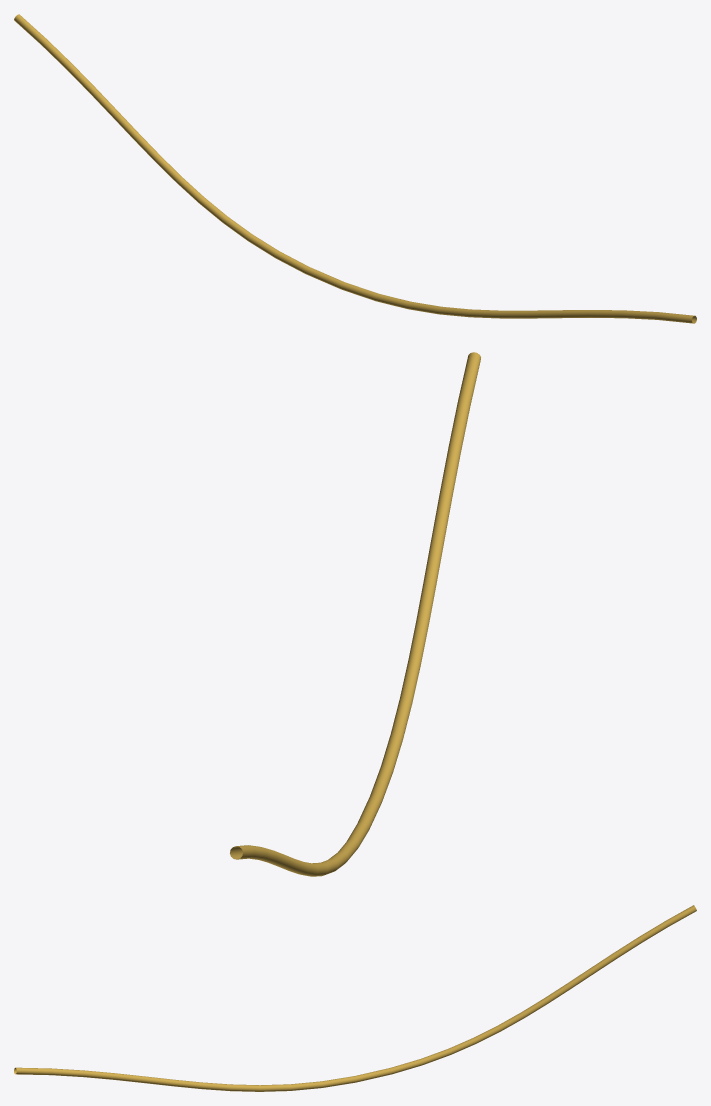
The picture shows the model from 3 angles, top to bottom: view 1: azimuth 30°, elevation 25°; view 2: azimuth 150°, elevation 25°; view 3: azimuth 270°, elevation 25°; orthographic projection. The views are drawn at different scales.
Visible parts, largest first — view 1: 左侧隐神经小腿内侧皮支; view 2: 左侧隐神经小腿内侧皮支; view 3: 左侧隐神经小腿内侧皮支.
Boxes of the visible parts, x1,y1,x2,y2 form: 左侧隐神经小腿内侧皮支: (14,14,696,323); 左侧隐神经小腿内侧皮支: (230,352,480,876); 左侧隐神经小腿内侧皮支: (14,905,696,1091).
Bounding box in the file's own units: 0.0569 × 0.0308 × 0.1485.
